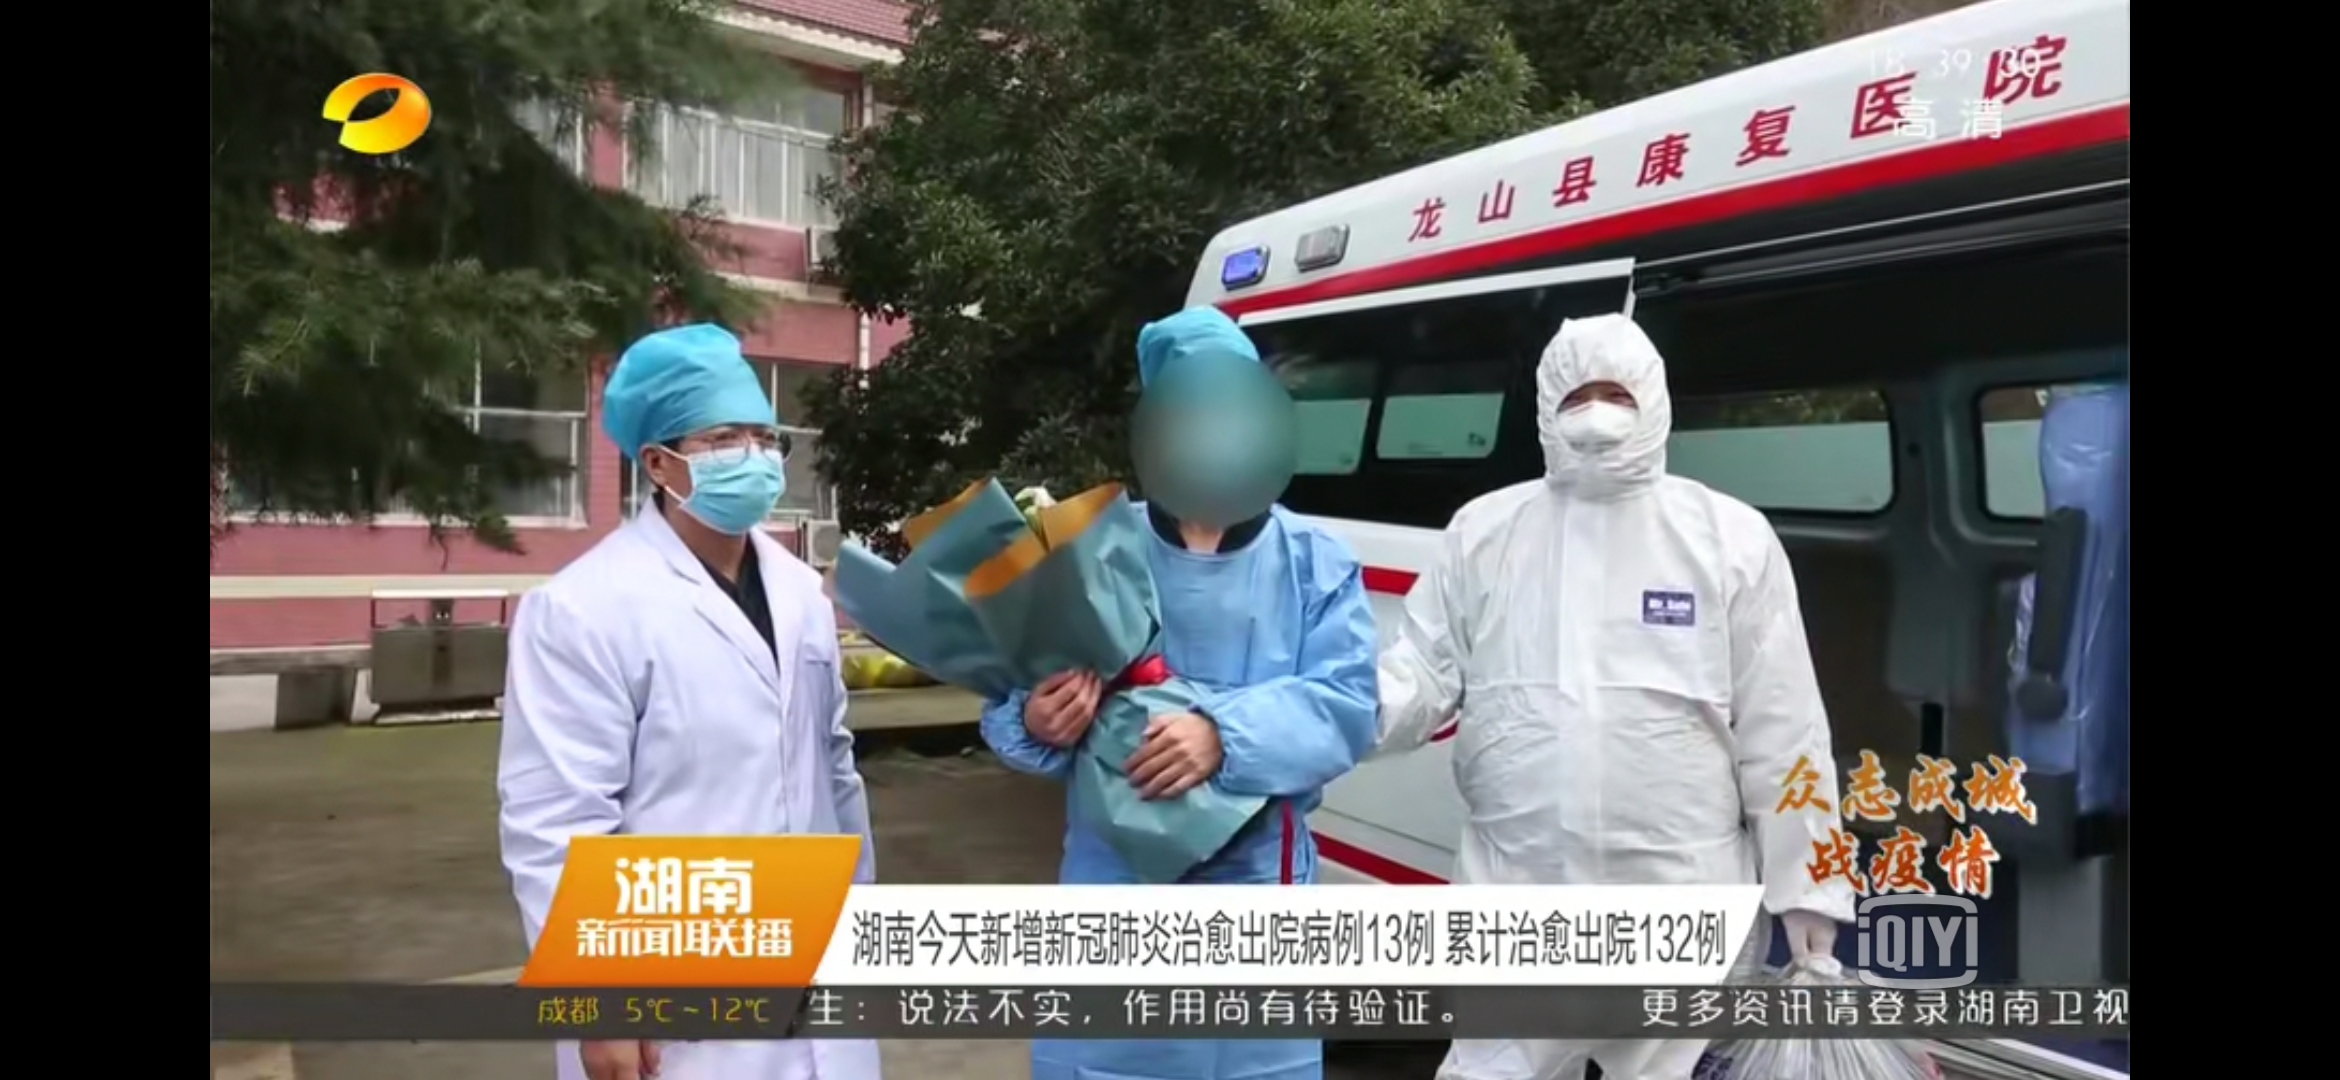correctlyWear: (639, 407, 789, 536), (1537, 373, 1657, 480)
